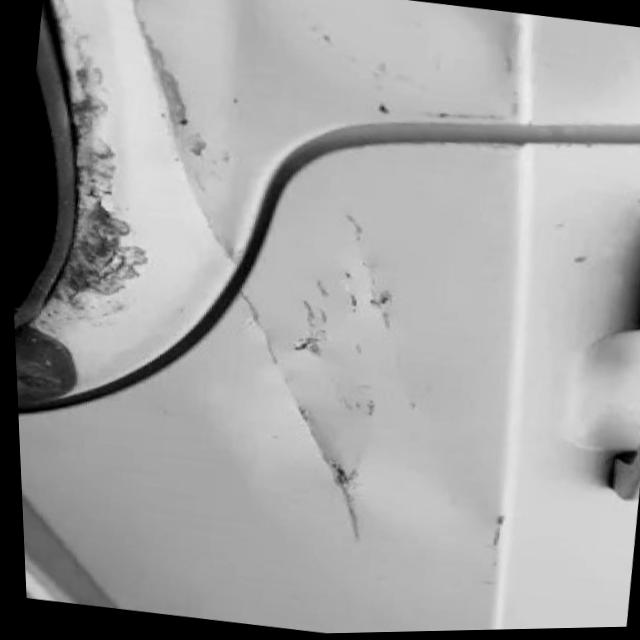Paint-fading: (130, 0, 189, 128), (237, 287, 278, 368), (299, 277, 331, 337), (367, 271, 391, 332), (339, 396, 377, 419), (343, 213, 362, 243), (348, 290, 356, 312)
Rust: (15, 0, 152, 345), (323, 457, 363, 512), (184, 127, 207, 161), (291, 334, 324, 356), (294, 401, 313, 425)
Scratch: (490, 507, 509, 550)
